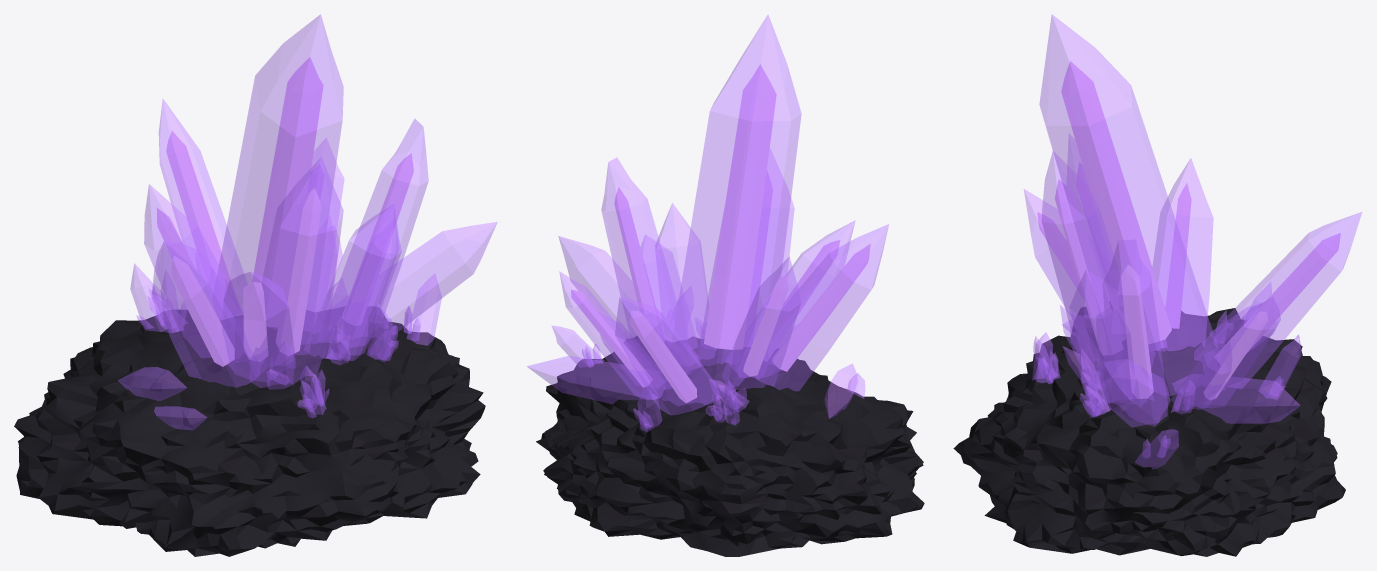
The model's file is Crystals_02_quest.glb.
3 renders of one model, left to right at view 1: azimuth 30°, elevation 25°; view 2: azimuth 150°, elevation 25°; view 3: azimuth 270°, elevation 25°, orthographic. The views are drawn at different scales.
Visible parts, largest first — view 1: Crystals_02_Rock, Crystals_02_Crystals, Crystals_02_Cores; view 2: Crystals_02_Crystals, Crystals_02_Rock, Crystals_02_Cores; view 3: Crystals_02_Crystals, Crystals_02_Rock, Crystals_02_Cores.
Part boxes in pixels (box(x1,y1,x2,y2)): Crystals_02_Rock: box(14, 310, 485, 556); Crystals_02_Crystals: box(118, 14, 497, 429); Crystals_02_Cores: box(157, 57, 413, 366); Crystals_02_Crystals: box(527, 15, 888, 432); Crystals_02_Rock: box(536, 336, 924, 556); Crystals_02_Cores: box(571, 64, 870, 402); Crystals_02_Crystals: box(1024, 15, 1361, 468); Crystals_02_Rock: box(953, 307, 1345, 556); Crystals_02_Cores: box(1037, 61, 1340, 399).
Bounding box in the file's own units: 3.76 × 4.08 × 3.22.
